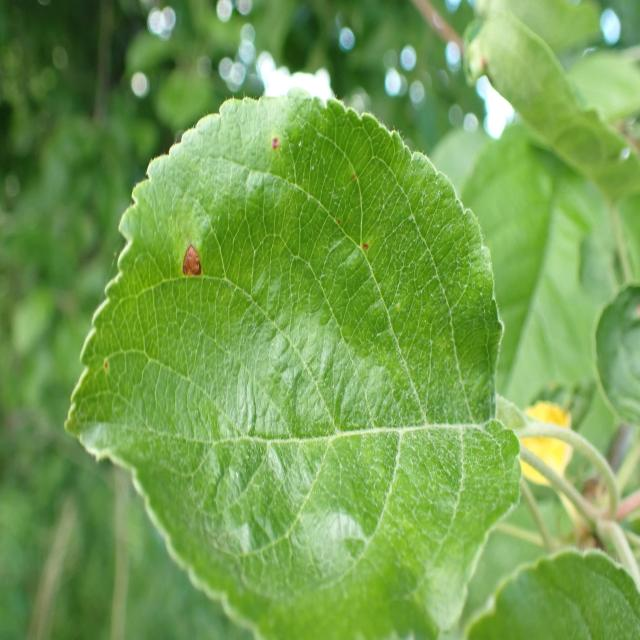Black Rot: (174, 228, 216, 301), (265, 116, 285, 164)
